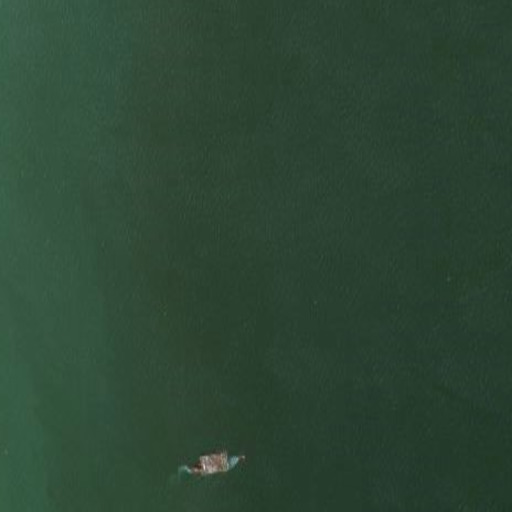ship: (179, 448, 249, 480)
